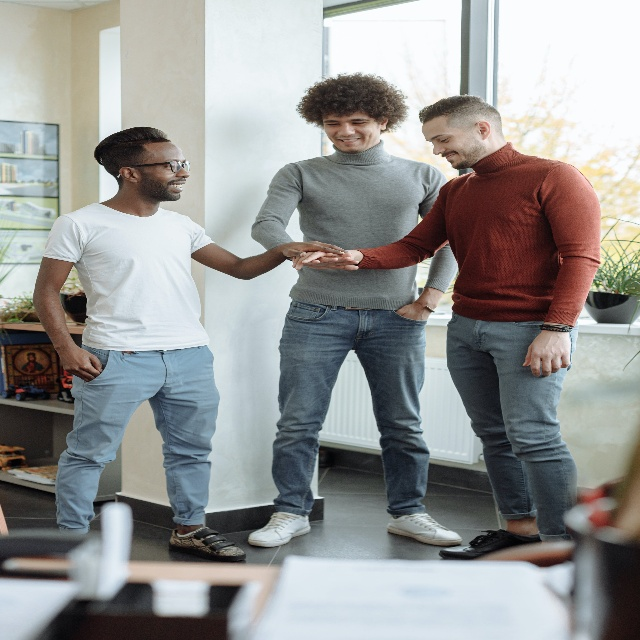Gafas: (117, 160, 190, 176)
Sin_guantes: (522, 322, 573, 378), (60, 346, 104, 384), (281, 239, 351, 258), (302, 257, 359, 273), (291, 251, 335, 271), (395, 301, 432, 323)
